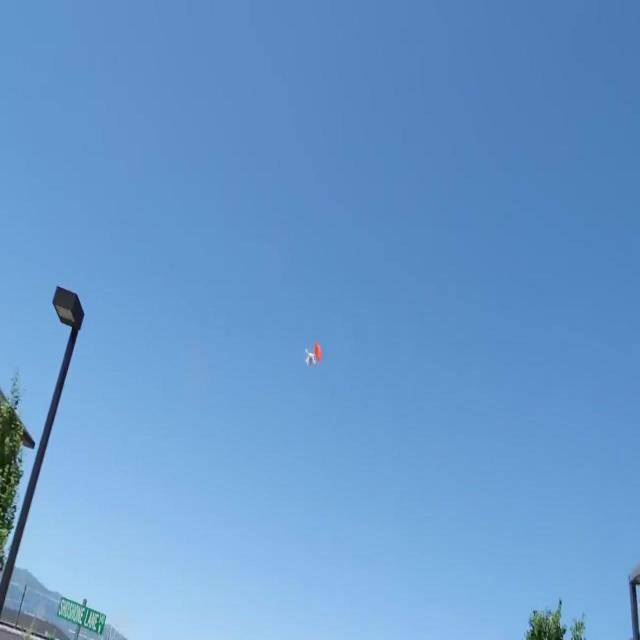UAV: (305, 348, 316, 366)
